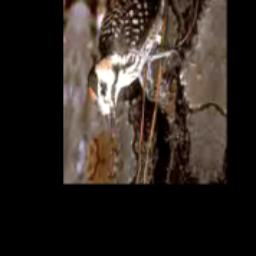Woodpecker: (81, 0, 185, 158)
